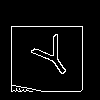Y: (25, 25, 78, 82)
